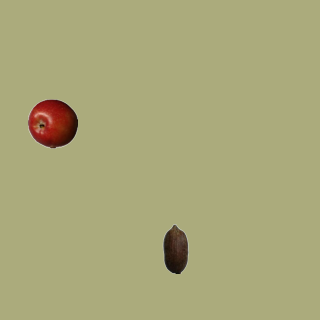Apple Braeburn: (27, 98, 77, 148)
Nut Pecan: (150, 223, 200, 273)
